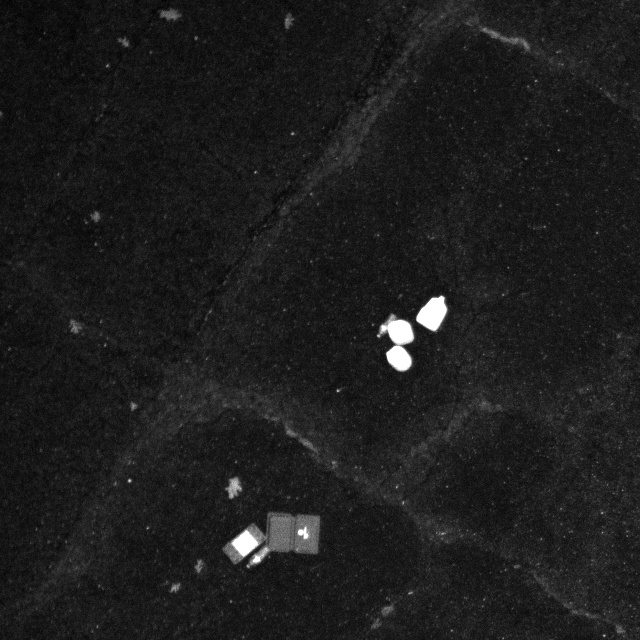bottle: (240, 543, 273, 567), (375, 313, 393, 340)
can: (416, 291, 449, 333), (385, 317, 418, 351), (382, 343, 417, 374)
container: (260, 506, 324, 561), (220, 521, 267, 564)
